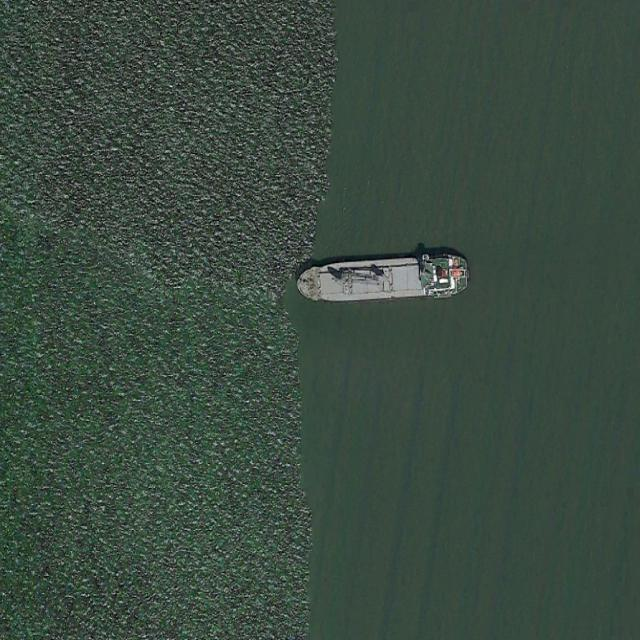Other Ship: (294, 250, 469, 307)
